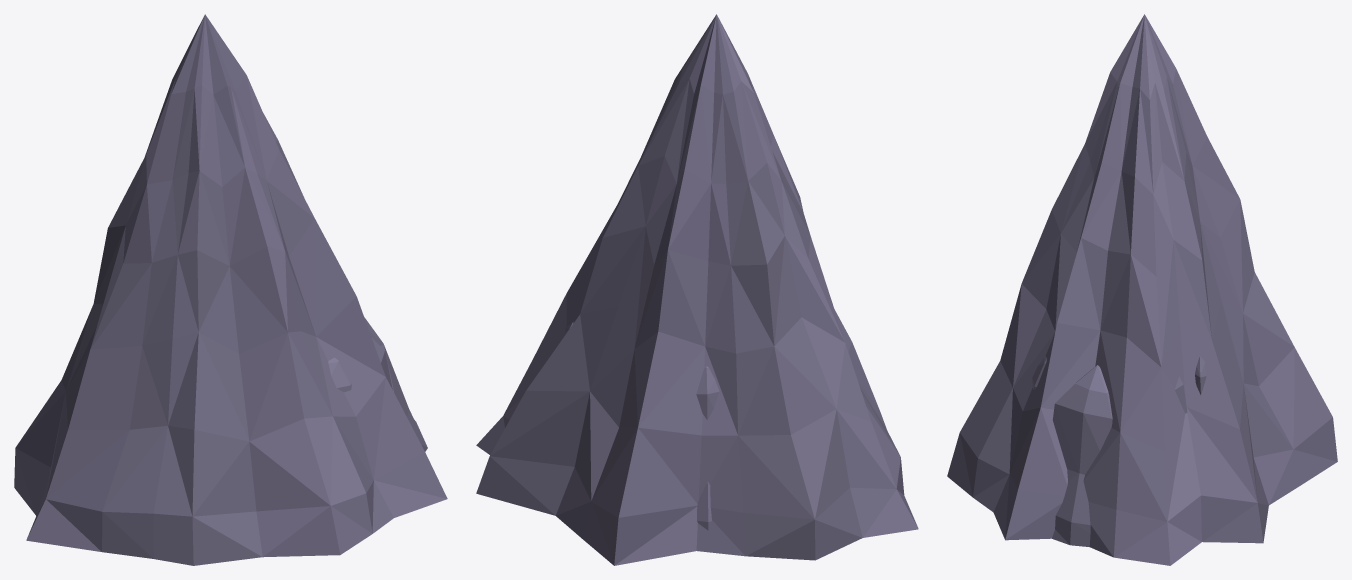
Rendered from 大山峰.glb.
3 renders of one model, left to right at view 1: azimuth 30°, elevation 25°; view 2: azimuth 150°, elevation 25°; view 3: azimuth 270°, elevation 25°, orthographic. The views are drawn at different scales.
Parts seen in each view (by area): view 1: 大山峰; view 2: 大山峰; view 3: 大山峰.
Boxes of the visible parts, x1=… form: 大山峰: x1=14, y1=14, x2=447, y2=565; 大山峰: x1=476, y1=14, x2=918, y2=565; 大山峰: x1=947, y1=14, x2=1337, y2=565.
Size of the model in its own units: 58.74 by 64 by 50.59.
